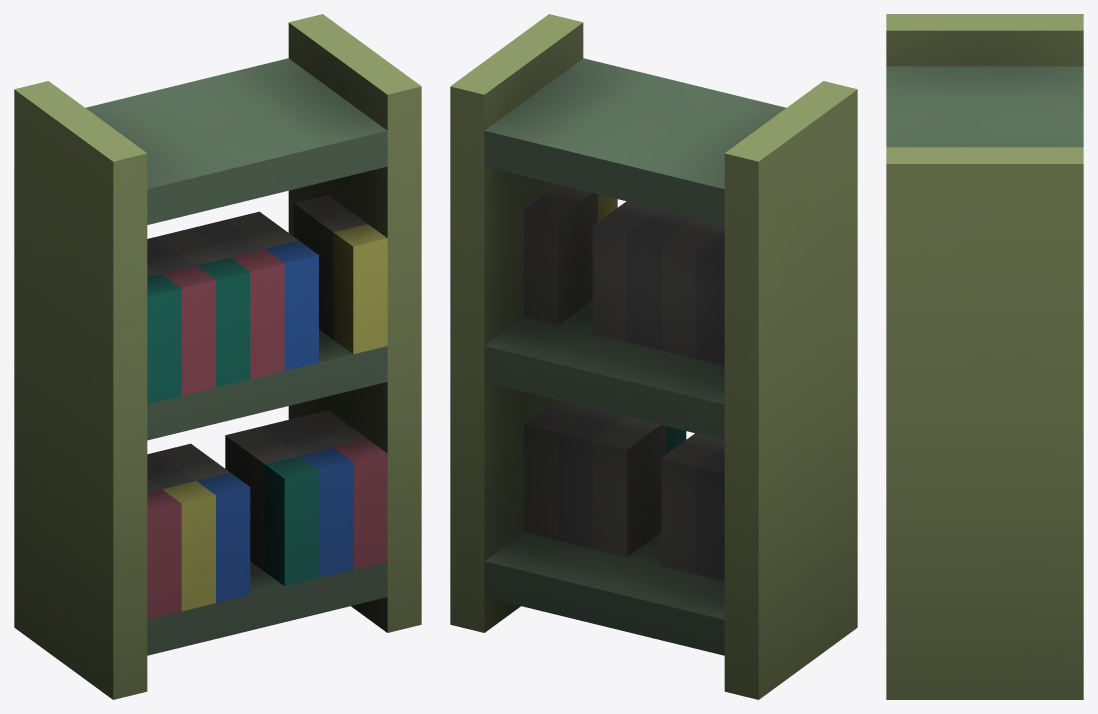
Rendered from bookcase.dae.
3 views of the same model, side by side, from view 1: azimuth 30°, elevation 25°; view 2: azimuth 150°, elevation 25°; view 3: azimuth 270°, elevation 25° (orthographic).
Parts seen in each view (by area): view 1: node; view 2: node; view 3: node.
Part boxes in pixels (x1,y1,x2,y2): node: [14, 14, 421, 699]; node: [450, 14, 857, 699]; node: [886, 14, 1083, 699].
Size of the model in its own units: 13.5 by 22.5 by 7.5.
